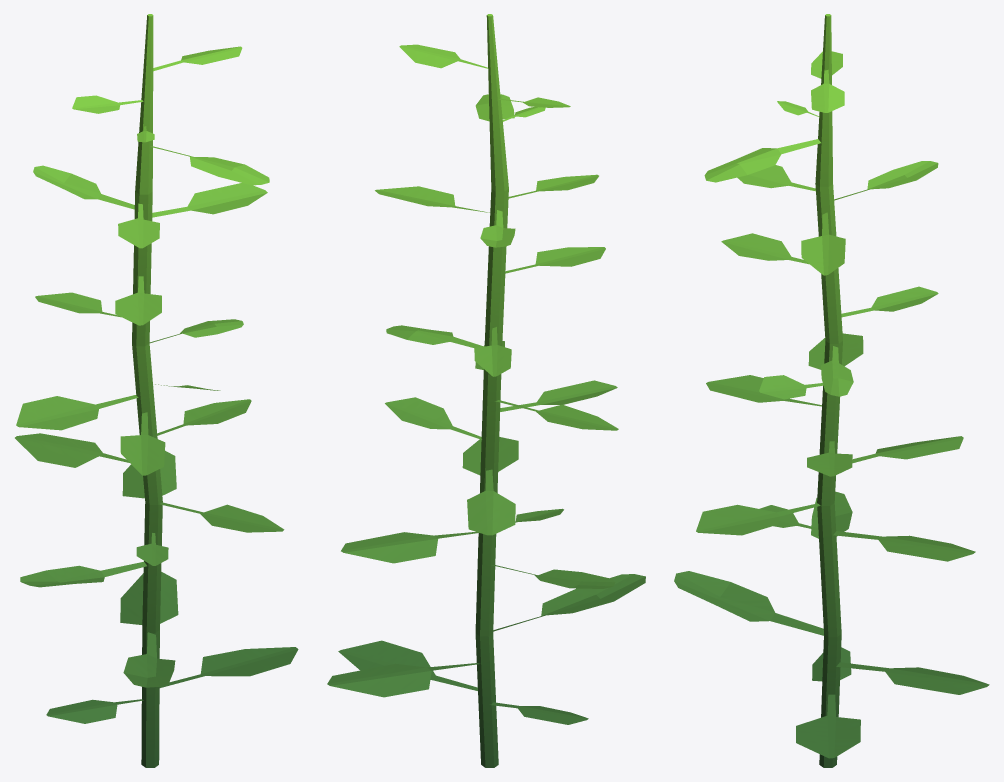
The model's file is seaweed.glb.
3 renders of one model, left to right at view 1: azimuth 30°, elevation 25°; view 2: azimuth 150°, elevation 25°; view 3: azimuth 270°, elevation 25°, orthographic.
Visible parts, largest first — view 1: Seaweed; view 2: Seaweed; view 3: Seaweed.
Part boxes in pixels (x1,y1,x2,y2): Seaweed: [15, 14, 298, 767]; Seaweed: [327, 14, 645, 767]; Seaweed: [674, 14, 989, 767].
Bounding box in the file's own units: 2.18 × 5.59 × 2.14.
1 material, 1 textured.
